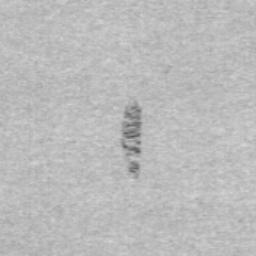Secondary rust skin: (121, 104, 143, 156), (128, 160, 141, 174)
